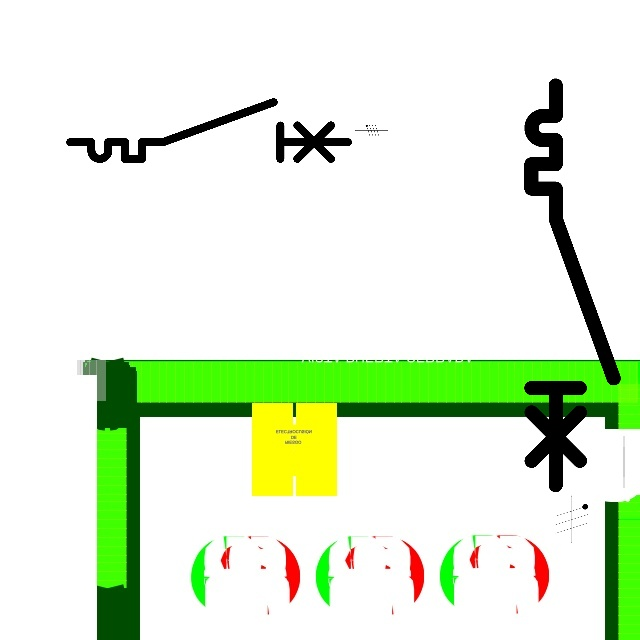interruptor_termomagnetico: (521, 75, 624, 495), (63, 95, 355, 166)
